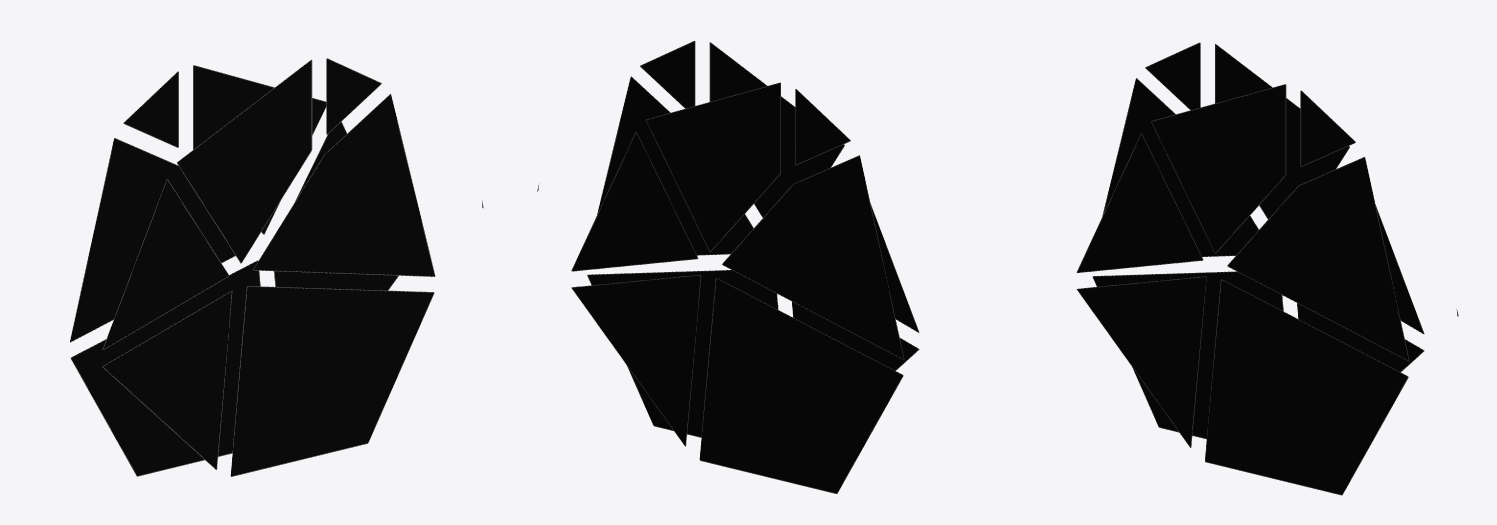
The model's file is Miniscene2_Lump of Coal.fbx.
3 views of the same model, side by side, from view 1: azimuth 30°, elevation 25°; view 2: azimuth 150°, elevation 25°; view 3: azimuth 330°, elevation 25° (orthographic).
Visible parts, largest first — view 1: Model; view 2: Model; view 3: Model.
Part boxes in pixels (box(x1,y1,x2,y2)): Model: box(70, 58, 483, 476); Model: box(537, 41, 919, 493); Model: box(1076, 42, 1458, 495).
Bounding box in the file's own units: 95.37 × 95.37 × 8.81.
